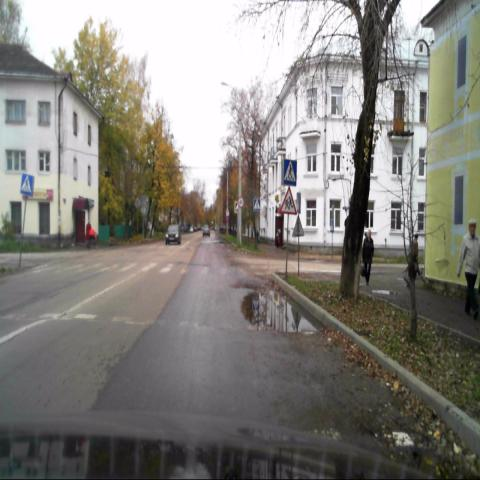1_23: (280, 185, 298, 215)
5_19_1: (282, 158, 298, 187), (20, 172, 35, 198)
